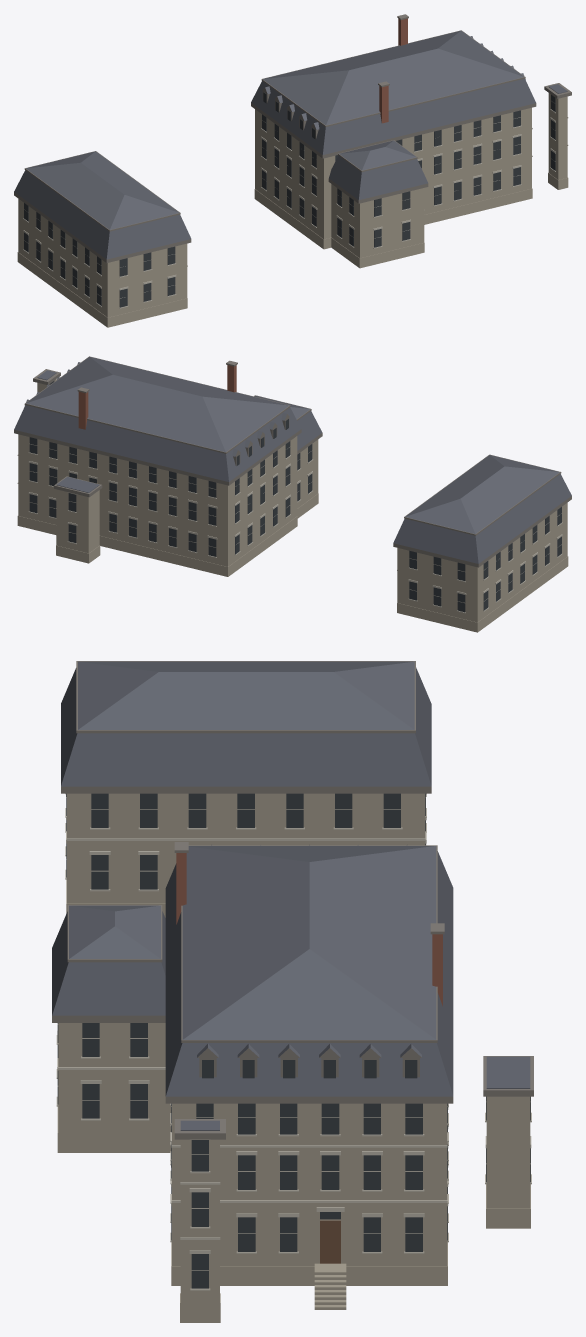
Rendered from pullman_house_1729_prairie__draft_1904.glb.
3 renders of one model, top to bottom at view 1: azimuth 30°, elevation 25°; view 2: azimuth 150°, elevation 25°; view 3: azimuth 270°, elevation 25°, orthographic. The views are drawn at different scales.
Visible parts, largest first — view 1: pullman_house_1729_prairie__draft_1904; view 2: pullman_house_1729_prairie__draft_1904; view 3: pullman_house_1729_prairie__draft_1904.
Boxes of the visible parts, x1,y1,x2,y2 form: pullman_house_1729_prairie__draft_1904: [14, 14, 571, 327]; pullman_house_1729_prairie__draft_1904: [14, 356, 571, 632]; pullman_house_1729_prairie__draft_1904: [52, 661, 533, 1322].
Bounding box in the file's own units: 65.2 × 18.76 × 27.55.
